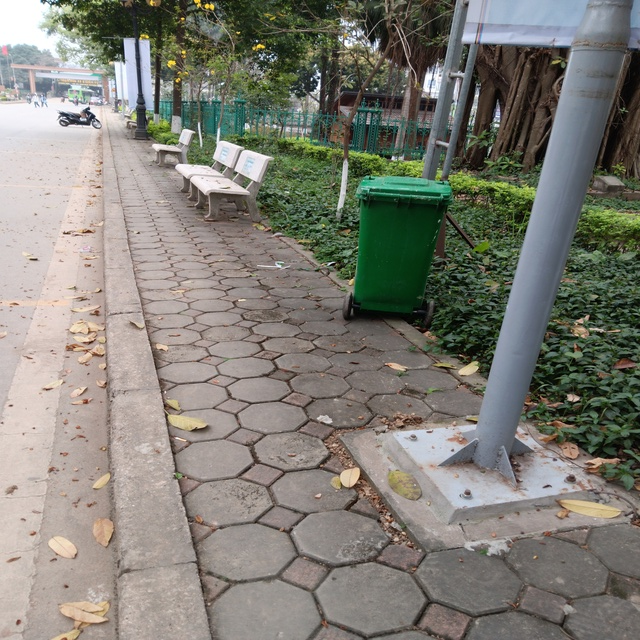thungrac: (349, 170, 443, 331)
